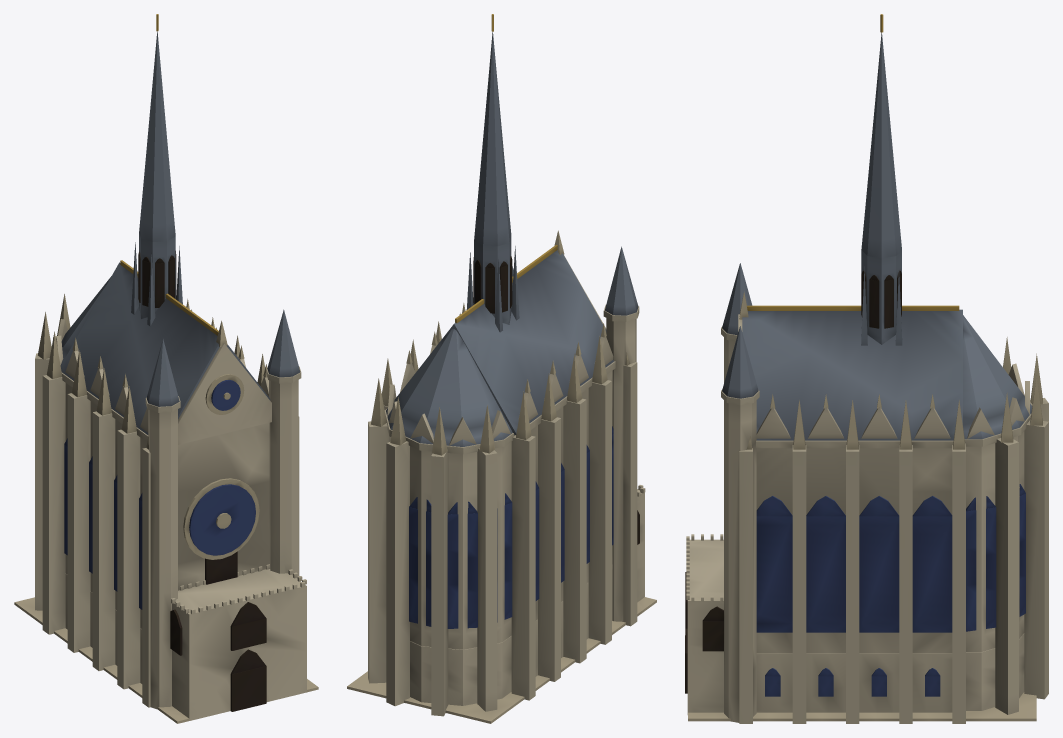
The model's file is sainte-chapelle.glb.
The picture shows the model from 3 angles, left to right: view 1: azimuth 30°, elevation 25°; view 2: azimuth 150°, elevation 25°; view 3: azimuth 270°, elevation 25°; orthographic projection. The views are drawn at different scales.
Visible parts, largest first — view 1: p1_upper chapel, p0_lower chapel, p2_roof, p3_spire; view 2: p1_upper chapel, p2_roof, p0_lower chapel, p3_spire; view 3: p1_upper chapel, p2_roof, p0_lower chapel, p3_spire.
Boxes of the visible parts, x1,y1,x2,y2 form: p1_upper chapel: (35,294,301,709); p0_lower chapel: (14,564,318,723); p2_roof: (60,260,271,444); p3_spire: (131,14,182,326); p1_upper chapel: (368,246,639,716); p2_roof: (386,230,614,446); p0_lower chapel: (347,485,656,723); p3_spire: (466,14,519,332); p1_upper chapel: (721,263,1048,723); p2_roof: (738,291,1032,440); p0_lower chapel: (685,534,1036,721); p3_spire: (861,14,902,345).
Bounding box in the file's own units: 19.4 × 76.32 × 37.55.
